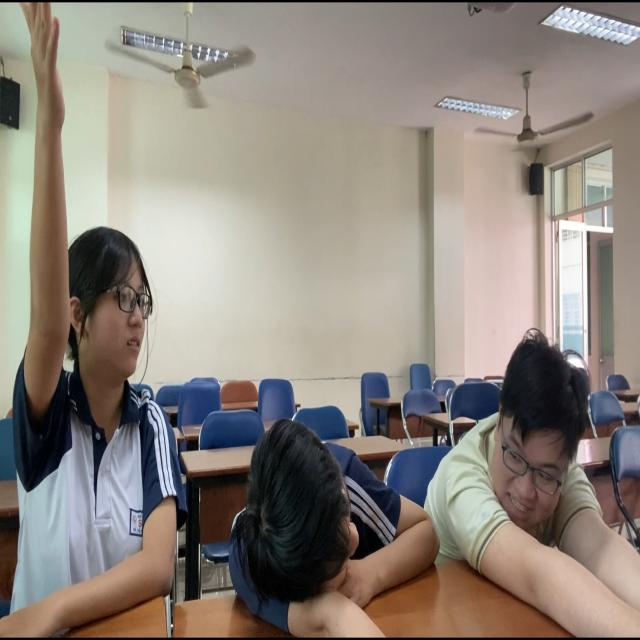raise_hand: (8, 1, 186, 640)
sleep: (439, 322, 640, 625), (220, 416, 440, 632)
